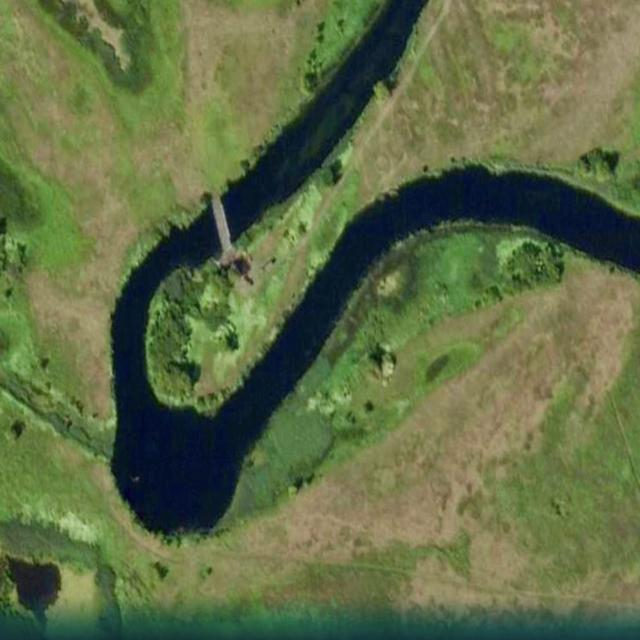fortification: (209, 195, 235, 252)
